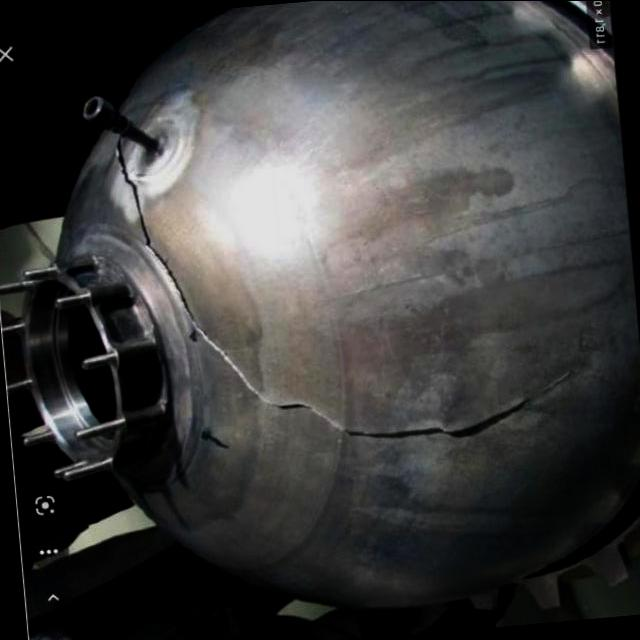defect: (113, 134, 537, 441)
